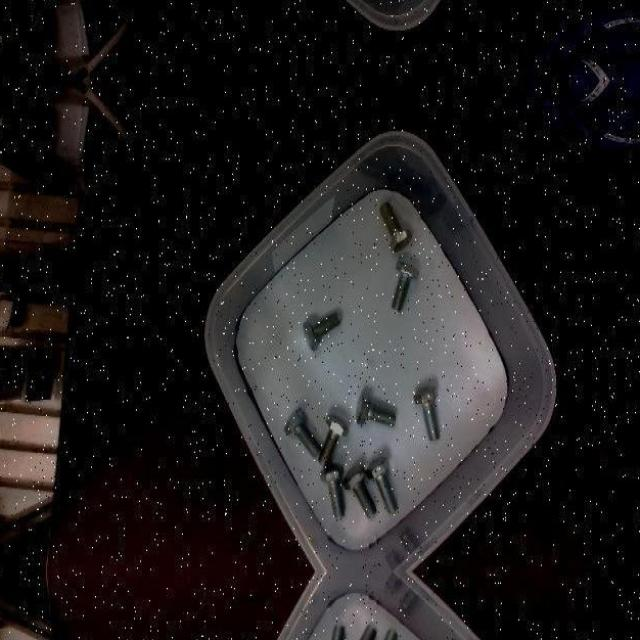screw: (342, 463, 376, 519), (365, 456, 398, 513), (283, 407, 320, 457), (316, 414, 349, 467), (379, 200, 412, 252), (302, 312, 340, 351), (413, 387, 440, 441), (319, 464, 345, 519), (391, 261, 419, 312), (356, 392, 396, 427), (341, 622, 376, 640), (317, 624, 343, 640), (365, 630, 398, 640)
